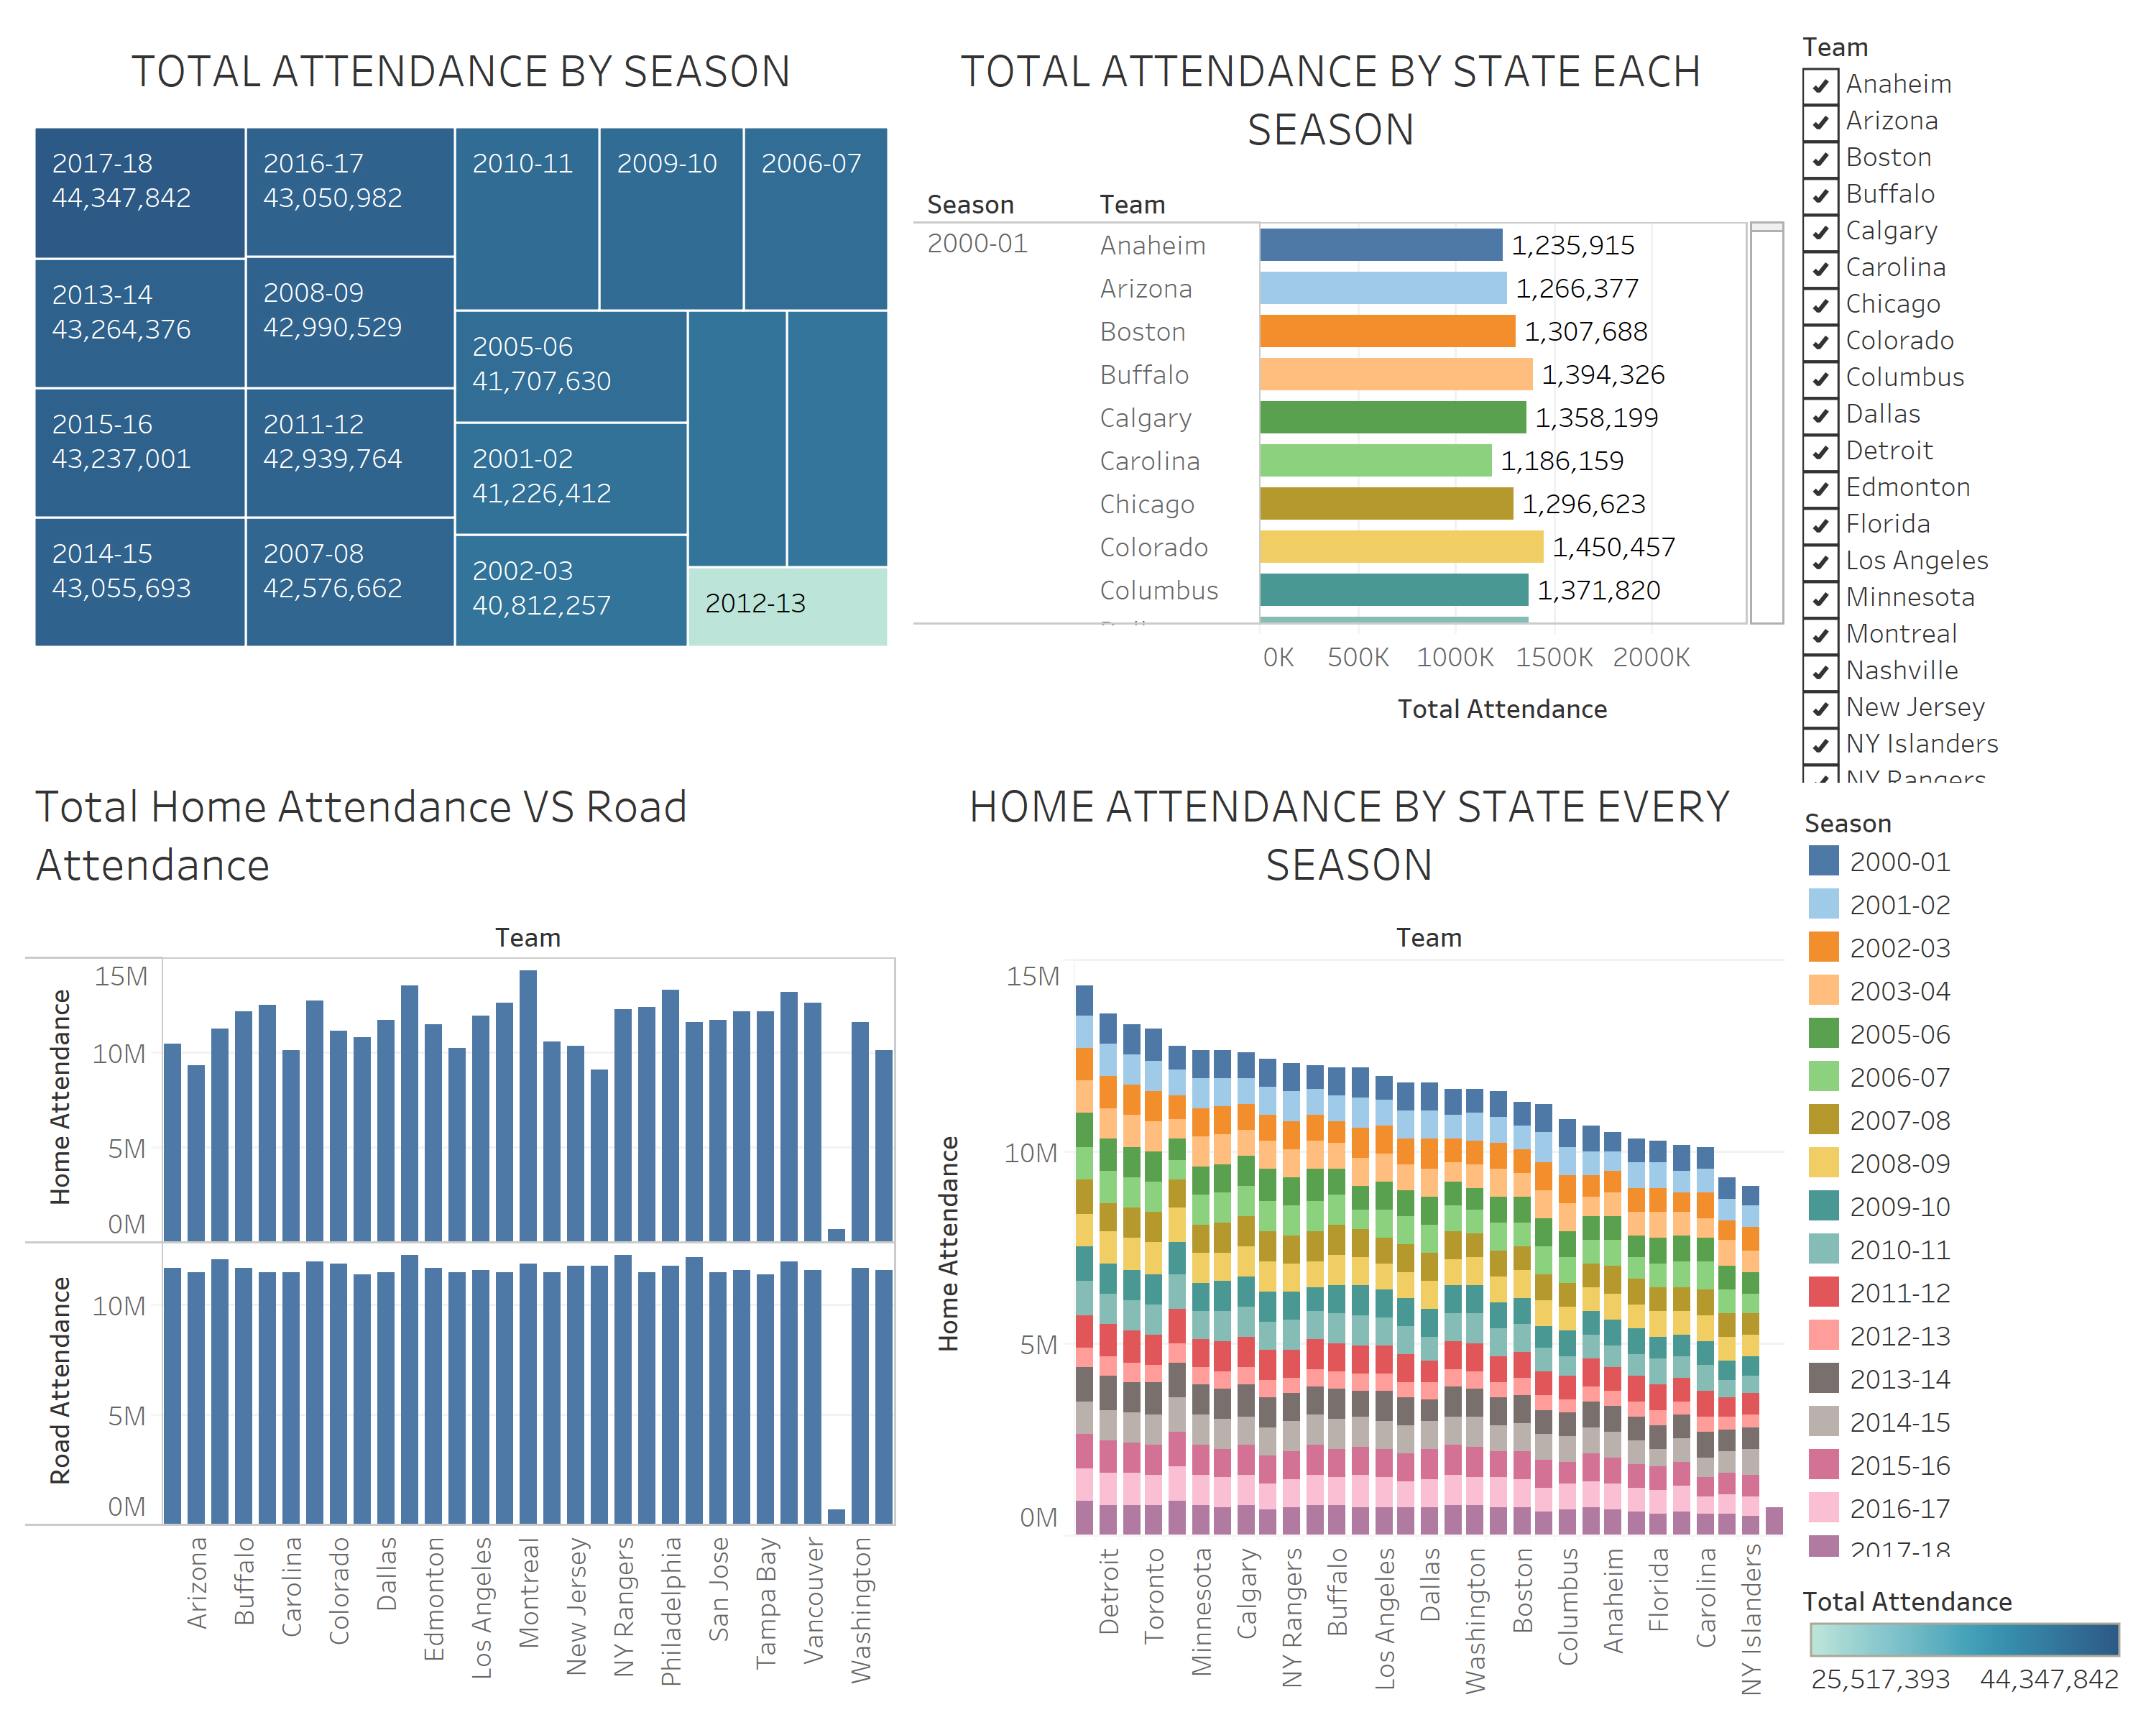

Layout of this report page (visuals, bound fields, positions):
{"tool":"tableau","page":{"name":"Dashboard 1","canvas":[1000,800],"ordinal":0},"visuals":[{"type":"worksheet","title":"Sheet 4","mark":"Automatic","box":[8,8,412,341]},{"type":"worksheet","title":"Sheet 3","mark":"Automatic","rows":["SEASON","TEAM"],"cols":["TOTAL ATTENDANCE"],"box":[420,8,412,341]},{"type":"filter","title":"Sheet 2","param":"[federated.02kclgu0af933u1a9t7so1ebta2f].[none:TEAM:nk]","box":[832,8,160,359.5]},{"type":"worksheet","title":"Sheet 5","mark":"Automatic","rows":["HOME ATTENDANCE","ROAD ATTENDANCE"],"cols":["TEAM"],"box":[8,349,412,443]},{"type":"worksheet","title":"Sheet 2","mark":"Automatic","rows":["HOME ATTENDANCE"],"cols":["TEAM"],"box":[420,349,412,443]},{"type":"legend","title":"Sheet 2","param":"[federated.02kclgu0af933u1a9t7so1ebta2f].[none:SEASON:nk]","box":[832,367.5,160,359.5]},{"type":"legend","title":"Sheet 4","param":"[federated.02kclgu0af933u1a9t7so1ebta2f].[sum:TOTAL ATTENDANCE:qk]","box":[832,727,160,65]}]}

Visuals, with their boxes in screenshot pixels (x1, y1, x2, y2), scaled from the page's 1000x800 canvas onto the 2156x1725 screenshot:
"Sheet 4" worksheet: <box>17,17,906,753</box>
"Sheet 3" worksheet: <box>906,17,1794,753</box>
"Sheet 2" filter: <box>1794,17,2139,792</box>
"Sheet 5" worksheet: <box>17,753,906,1708</box>
"Sheet 2" worksheet: <box>906,753,1794,1708</box>
"Sheet 2" legend: <box>1794,792,2139,1568</box>
"Sheet 4" legend: <box>1794,1568,2139,1708</box>
